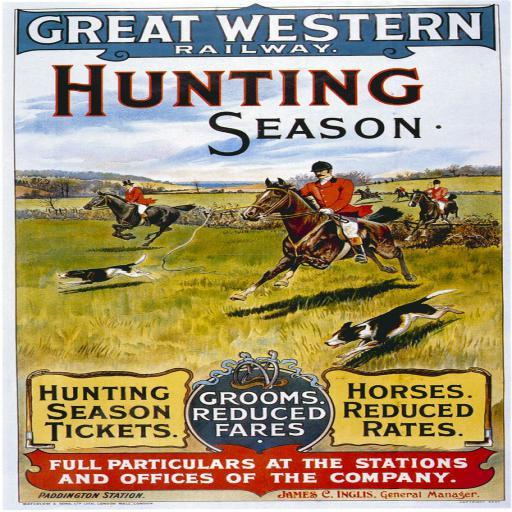Horse: (230, 177, 418, 300), (82, 190, 199, 247), (408, 188, 460, 241), (350, 188, 383, 204), (393, 187, 412, 202)
